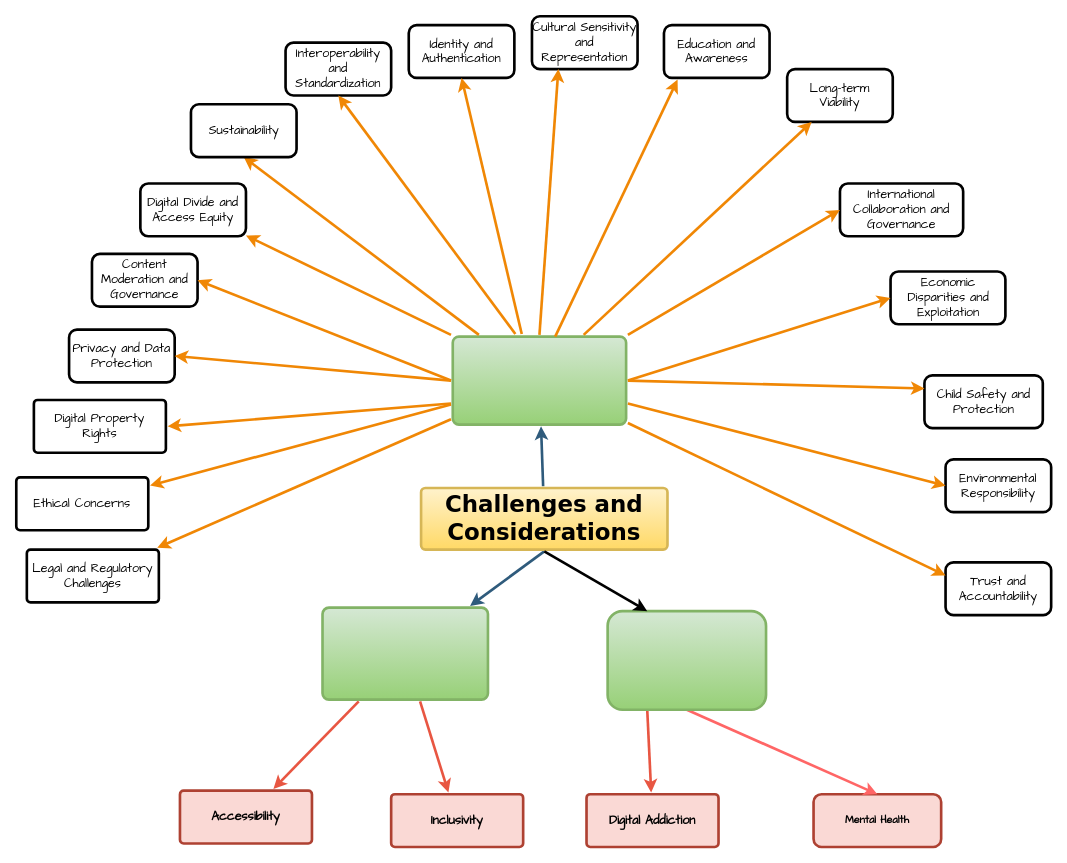
Image size: 1067x863. Some labels were removed from this diagram. The centre of each missing label's shape, as x and y in pixels:
Addressing Concerns Related to Digital Addiction and Mental Health: (x=686, y=660)
Ensuring Accessibility and Inclusivity in Metaverse Environments: (x=405, y=653)
Legal, Regulatory, and Ethical Issues in Virtual Spaces: (x=539, y=380)
